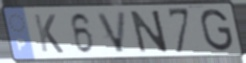6: (69, 11, 97, 54)
7: (167, 7, 193, 55)
G: (199, 8, 235, 53)
K: (32, 12, 66, 55)
N: (129, 9, 171, 55)
V: (95, 10, 129, 55)
